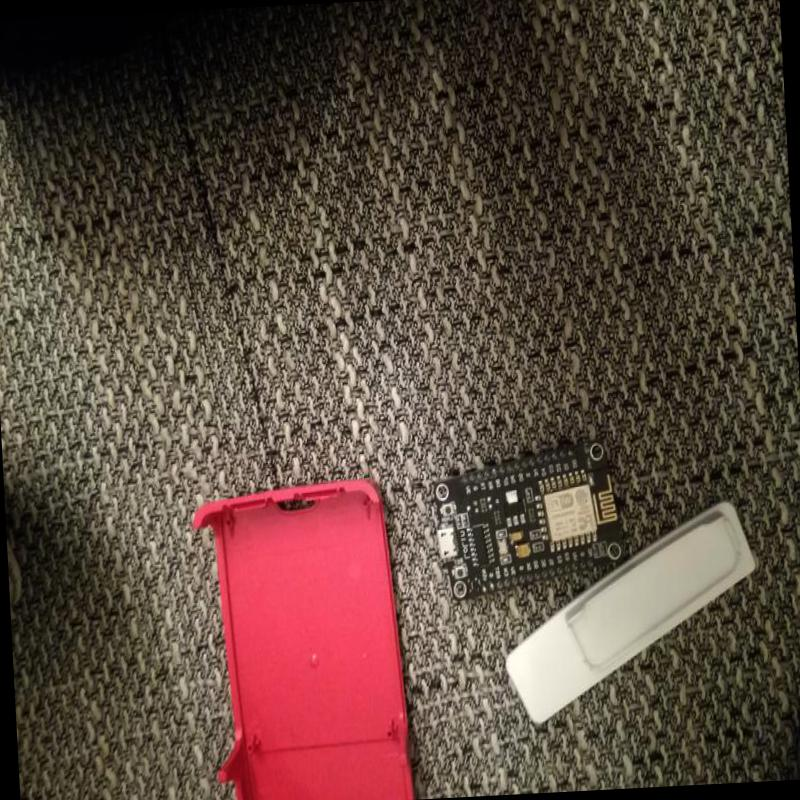ESP8266: (421, 433, 628, 613)
